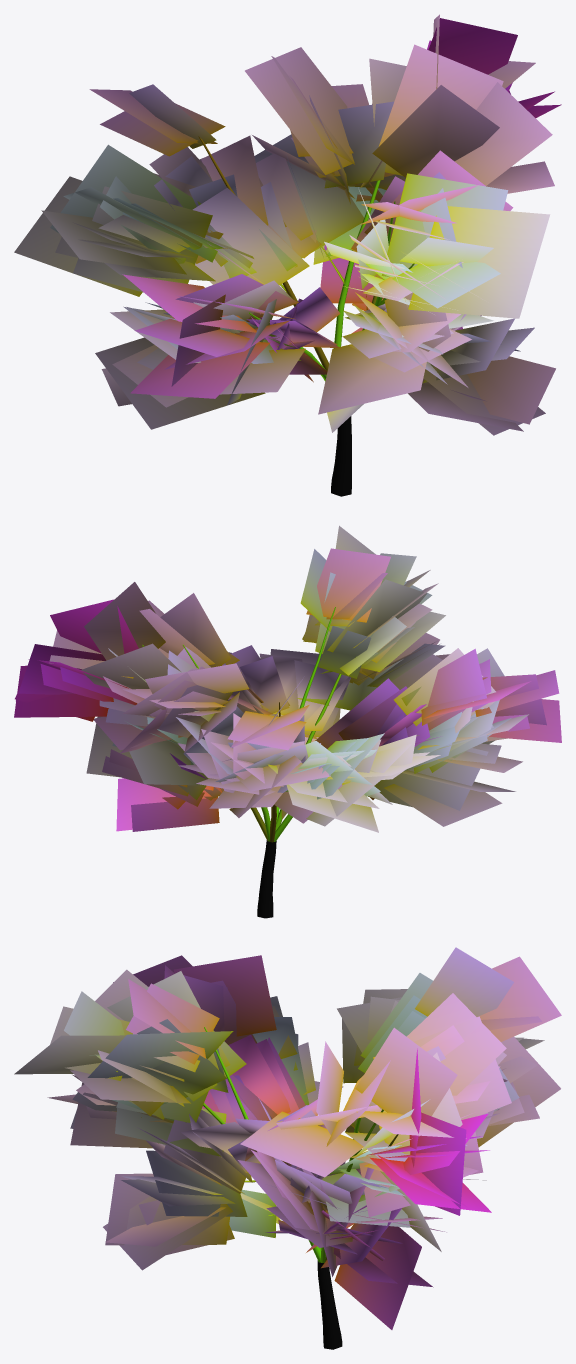
The model's file is tree_zelkova_b_lod1.glb.
3 views of the same model, one above another, from view 1: azimuth 30°, elevation 25°; view 2: azimuth 150°, elevation 25°; view 3: azimuth 270°, elevation 25° (orthographic). The views are drawn at different scales.
Visible parts, largest first — view 1: tree_zelkova_b_lod1; view 2: tree_zelkova_b_lod1; view 3: tree_zelkova_b_lod1.
Part boxes in pixels (<box>): tree_zelkova_b_lod1: <box>14,14,561,496</box>; tree_zelkova_b_lod1: <box>14,525,561,918</box>; tree_zelkova_b_lod1: <box>14,947,561,1349</box>.
Bounding box in the file's own units: 20.06 × 14.34 × 18.91.
